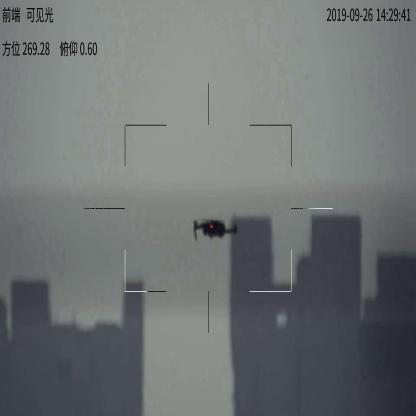uav: (184, 216, 242, 243)
